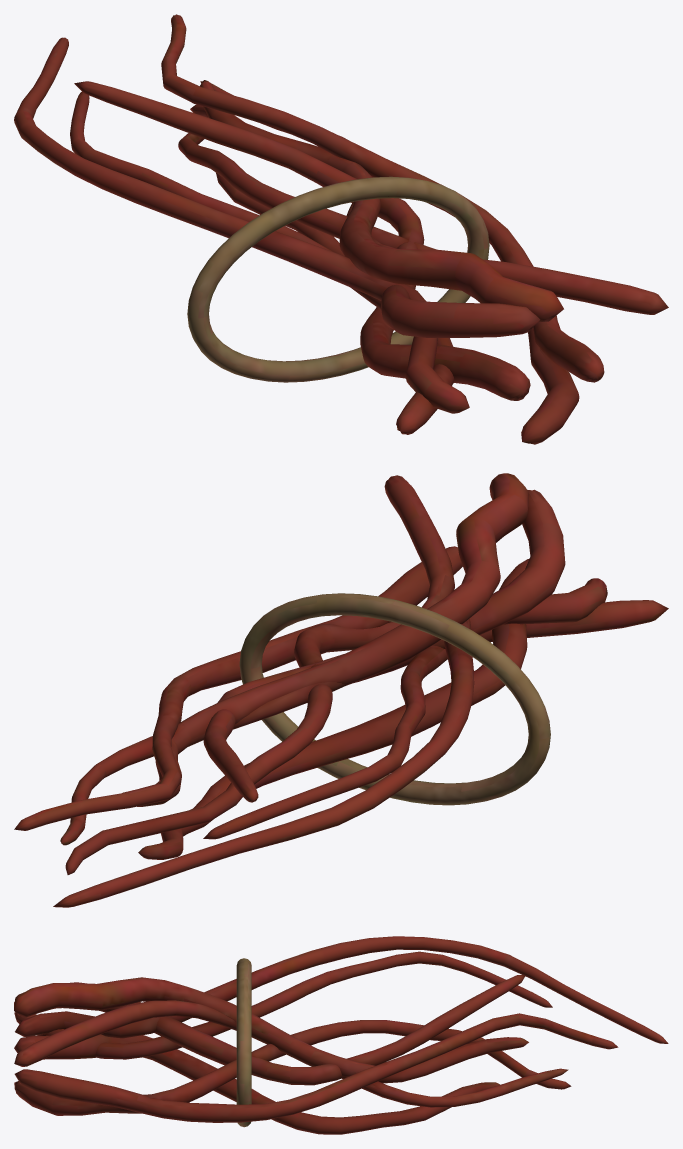
File: madder.glb
The picture shows the model from 3 angles, top to bottom: view 1: azimuth 30°, elevation 25°; view 2: azimuth 150°, elevation 25°; view 3: azimuth 270°, elevation 25°; orthographic projection. The views are drawn at different scales.
Parts seen in each view (by area): view 1: madder; view 2: madder; view 3: madder.
Boxes of the visible parts, left/top/right/bottom form: madder: left=14, top=14, right=668, bottom=444; madder: left=14, top=473, right=668, bottom=907; madder: left=14, top=936, right=668, bottom=1134.
Bounding box in the file's own units: 0.0592 × 0.0312 × 0.1382.
Materials: 1 (1 with a texture image).
